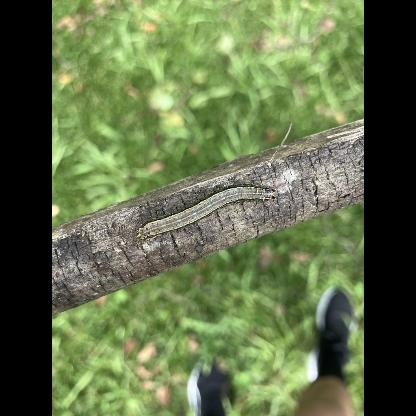Fall Armyworm Larvae: (134, 182, 280, 244)
